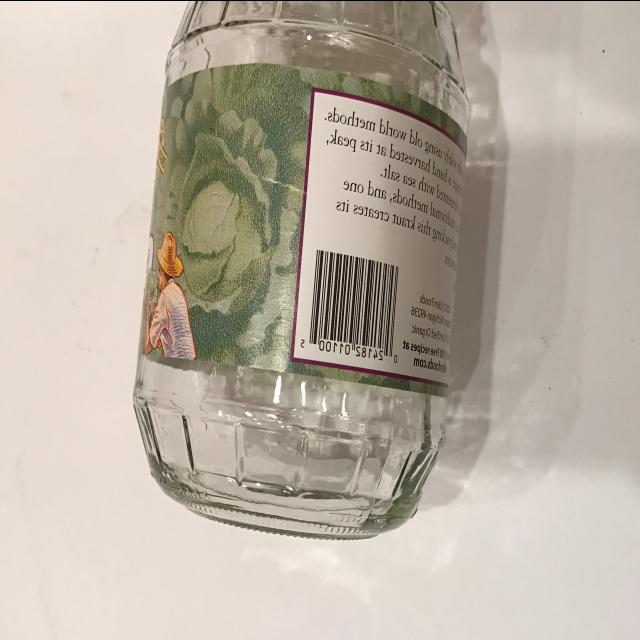glass: (125, 0, 479, 550)
